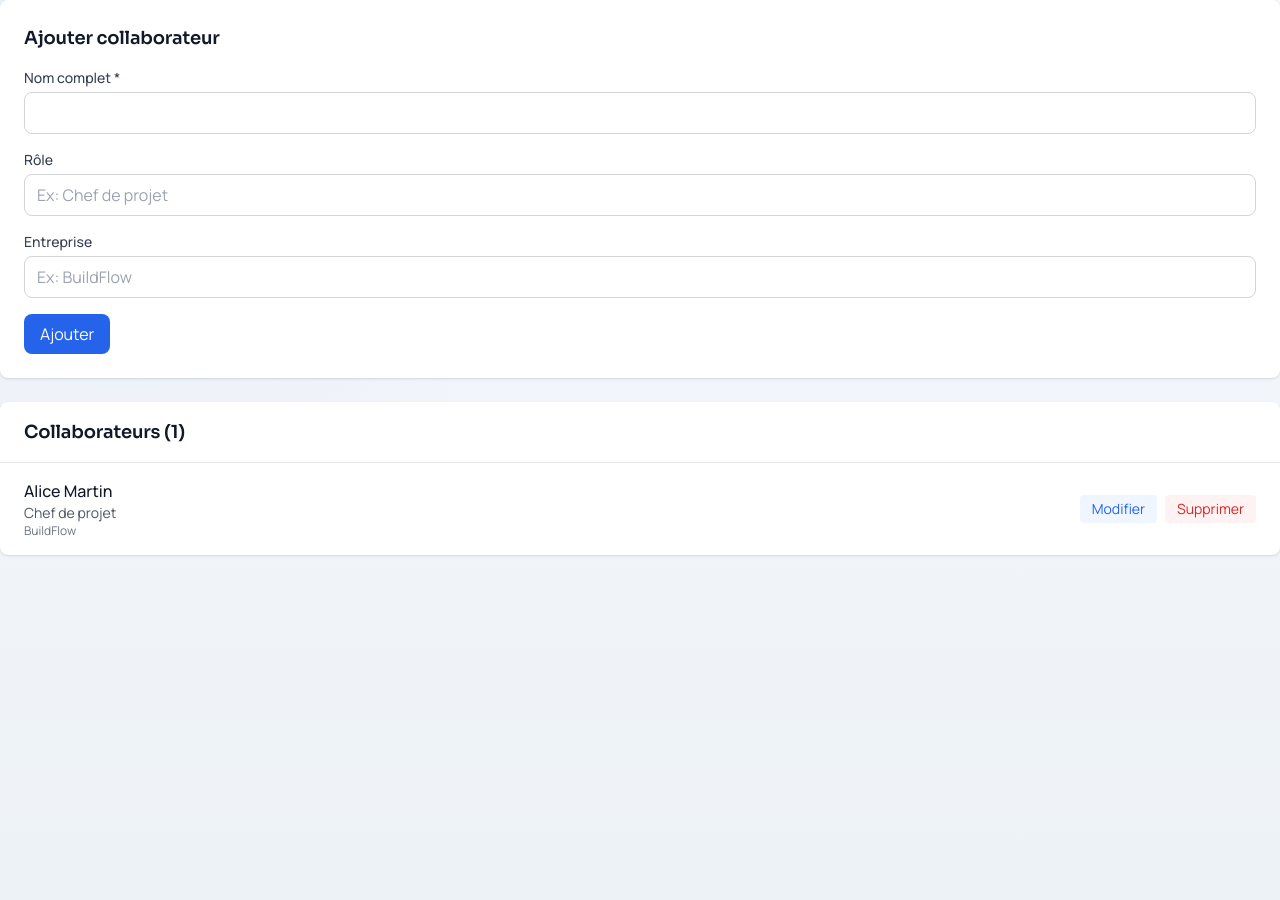
Test: WorkerList › met a jour un collaborateur avec son nom complet et journalise l action
This screenshot has width=1280, height=900.
Step 1. Click the button "Modifier" → (1118, 509), box x1=1080 y1=495 x2=1157 y2=523
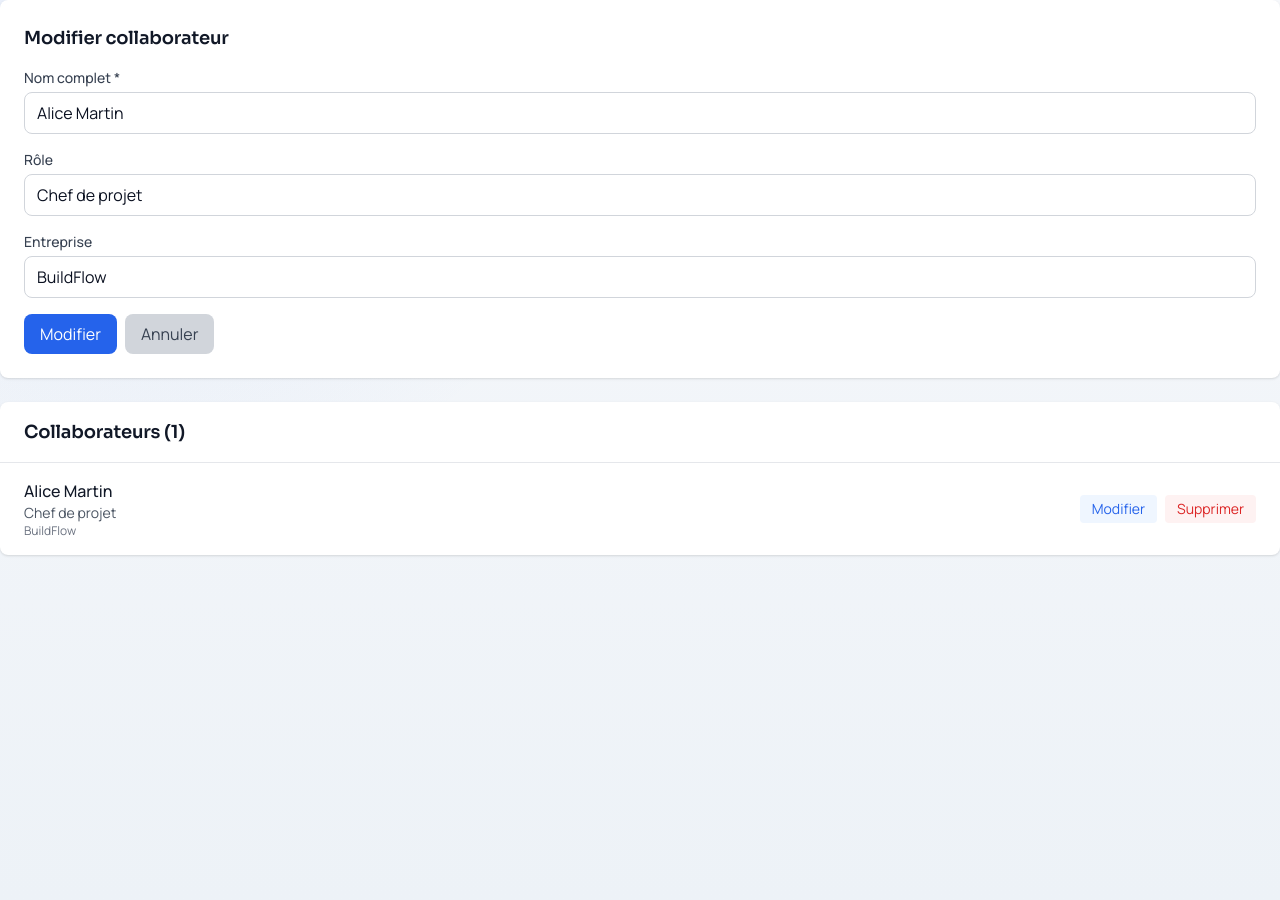
Result: the form "Annuler" is shown at x1=24 y1=68 x2=1256 y2=354
Step 2. Replace the text in the field showing "Alice Martin" below "Nom complet *" with "Alice Dupont" → (640, 113), box x1=24 y1=92 x2=1256 y2=134
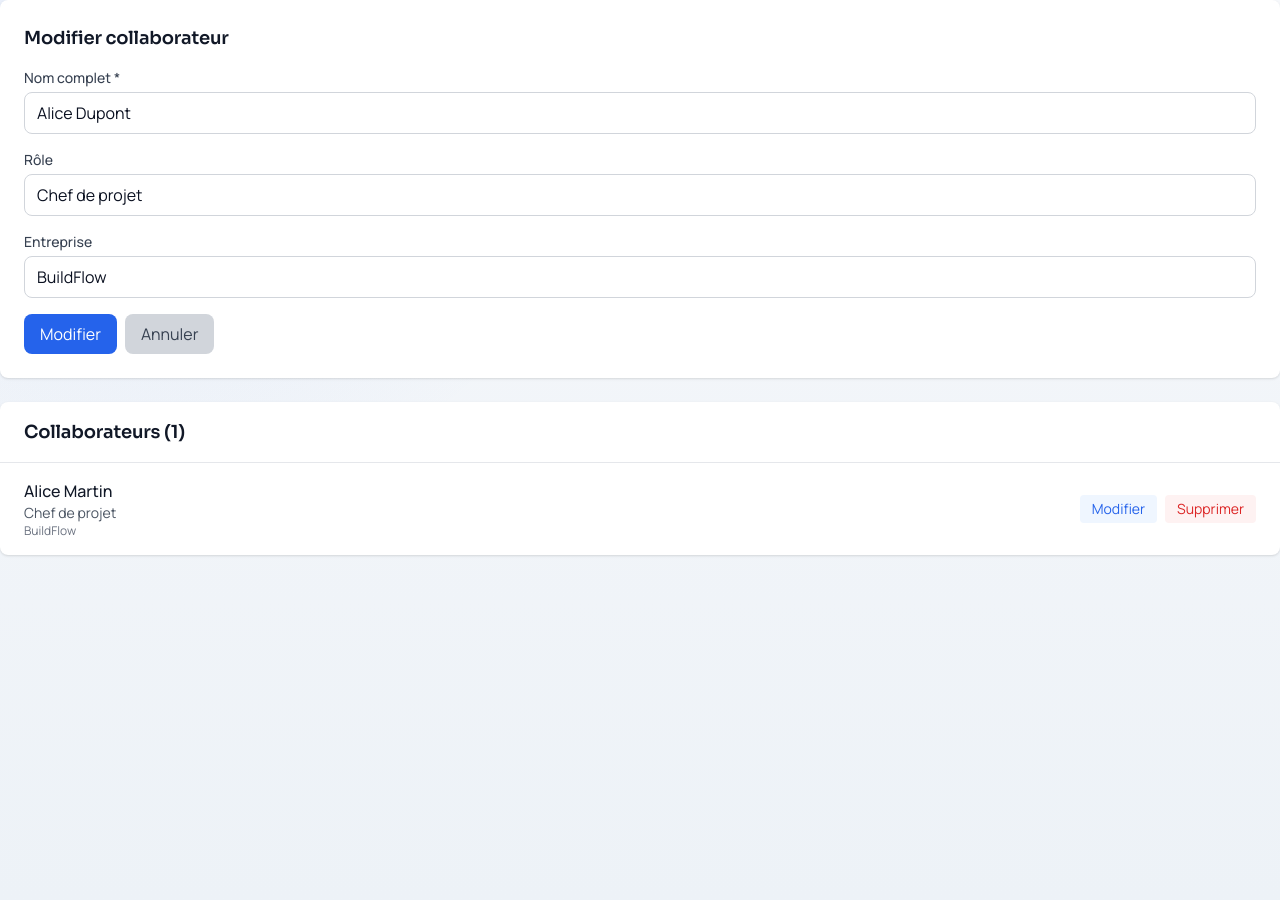
Step 3. Click the button "Modifier" below "Entreprise" → (70, 334), box x1=24 y1=314 x2=117 y2=354
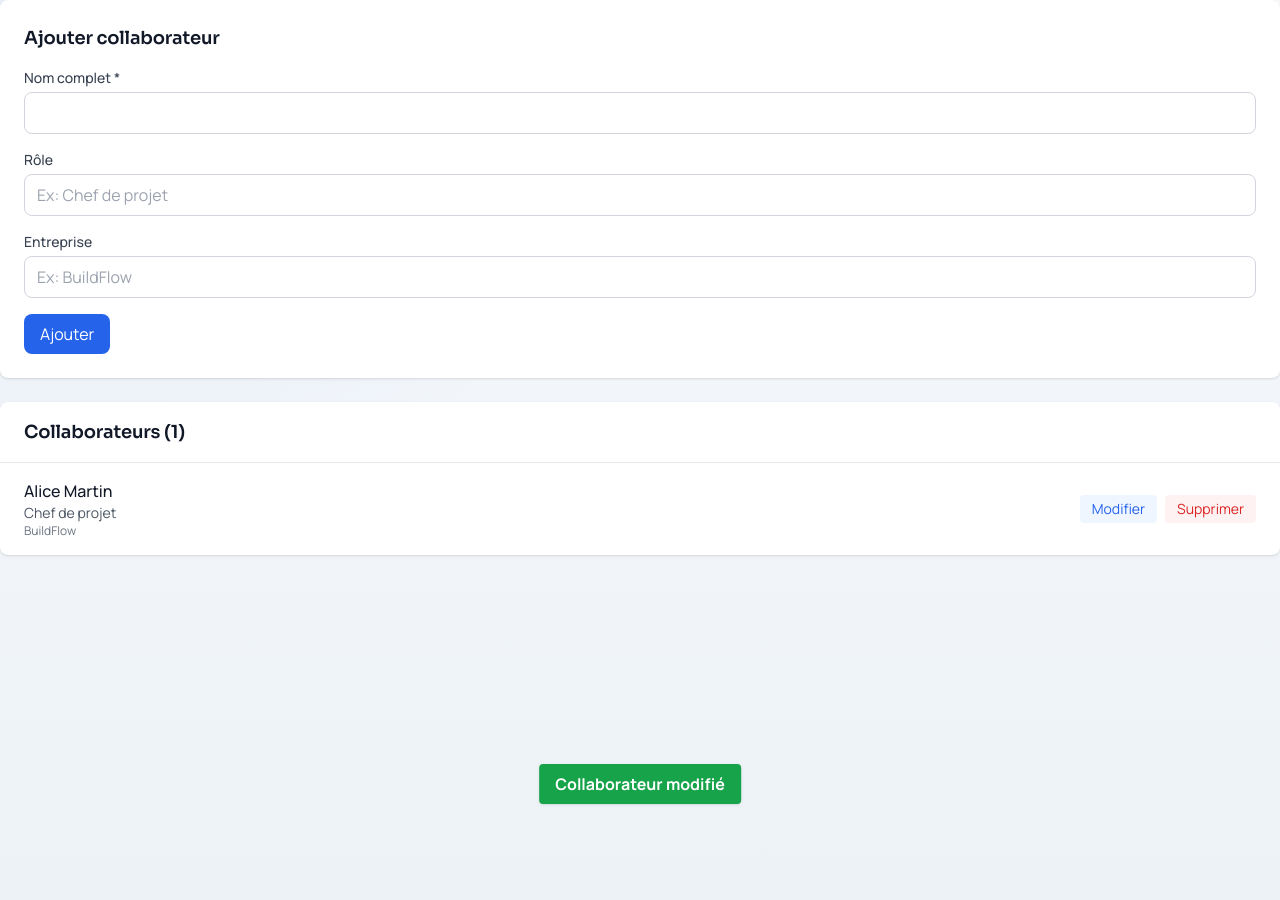
Result: the text "Collaborateur modifié" is shown at x1=539 y1=764 x2=741 y2=804
